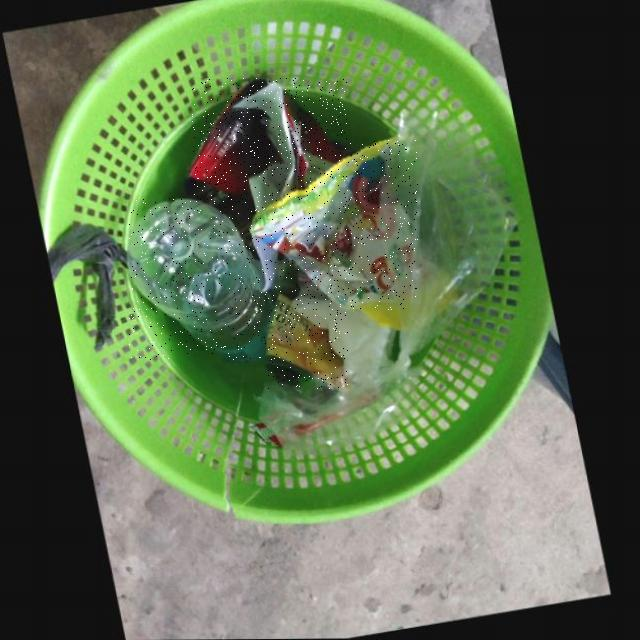plastic: (130, 198, 278, 361)
wrapper: (253, 140, 418, 309), (191, 78, 347, 214), (269, 294, 348, 388)
